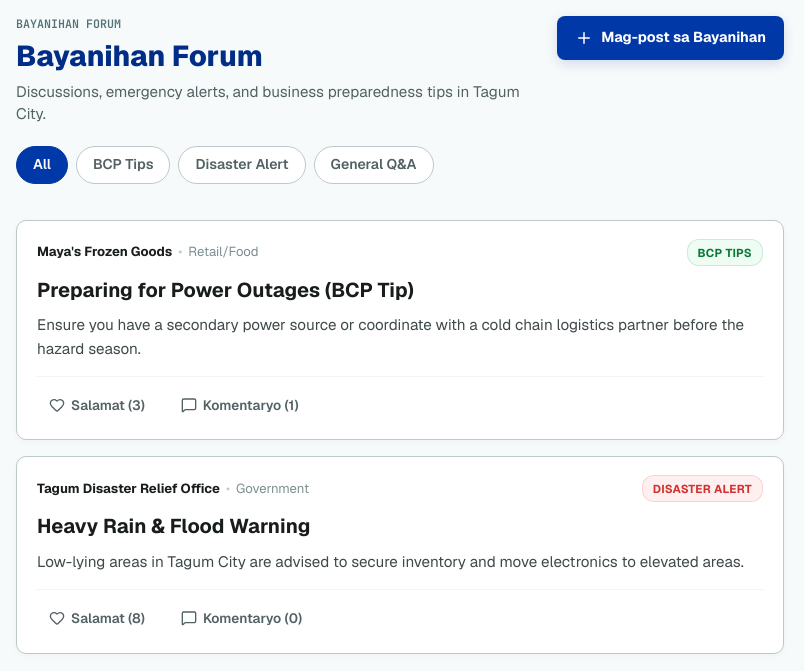
Test: Bayanihan Screen UI Tests › filters posts by topic tags correctly
Expected: the heading "Preparing for Power Outages (BCP Tip)" is shown, [37, 277, 414, 303]
Expected: the heading "Heavy Rain & Flood Warning" is shown, [37, 514, 310, 540]
Filter by "BCP Tips"
What coordinates should you click on to do the following:
click the button "BCP Tips"
I would click on:
 (123, 164)
Its box is [76, 146, 170, 184].
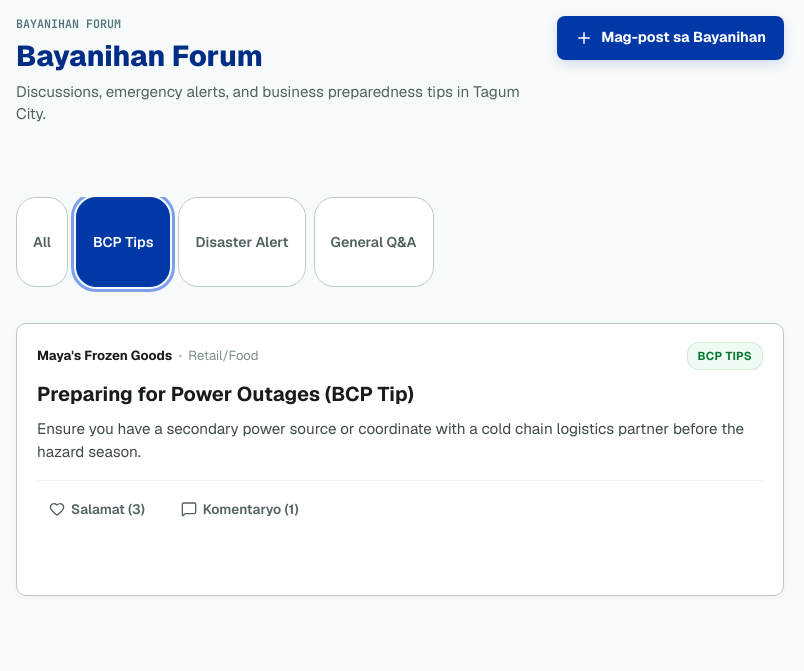
Expected: the heading "Preparing for Power Outages (BCP Tip)" is shown, [37, 381, 414, 407]
Expected: the heading "Heavy Rain & Flood Warning" is gone
Filter by "Disaster Alert"
What coordinates should you click on to do the following:
click the button "Disaster Alert"
I would click on:
 (242, 242)
Its box is [178, 198, 306, 287].
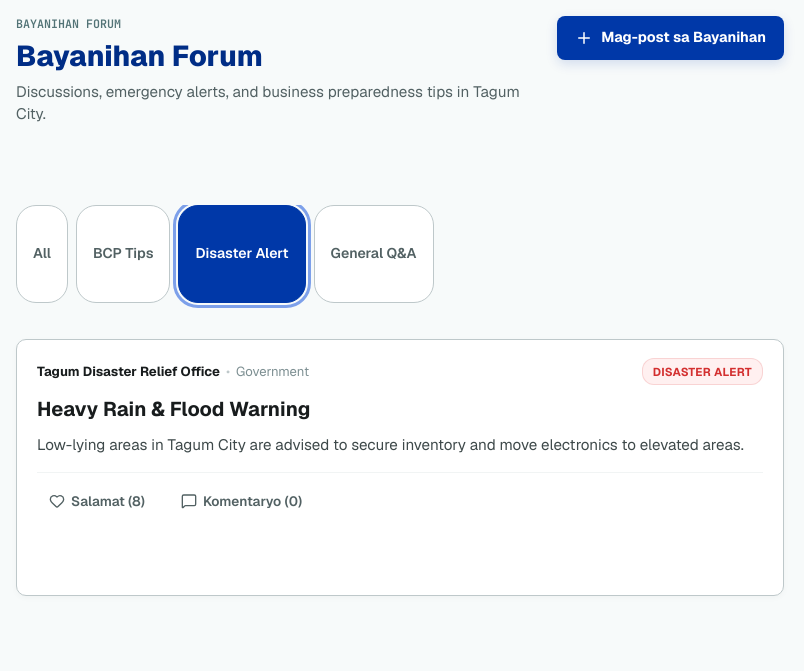
Expected: the heading "Preparing for Power Outages (BCP Tip)" is gone
Expected: the heading "Heavy Rain & Flood Warning" is shown, [37, 396, 310, 422]
Filter by "General Q&A" (which has no posts in seed data)
What coordinates should you click on to do the following:
click the button "General Q&A"
I would click on:
 (374, 254)
Its box is [314, 205, 434, 303].
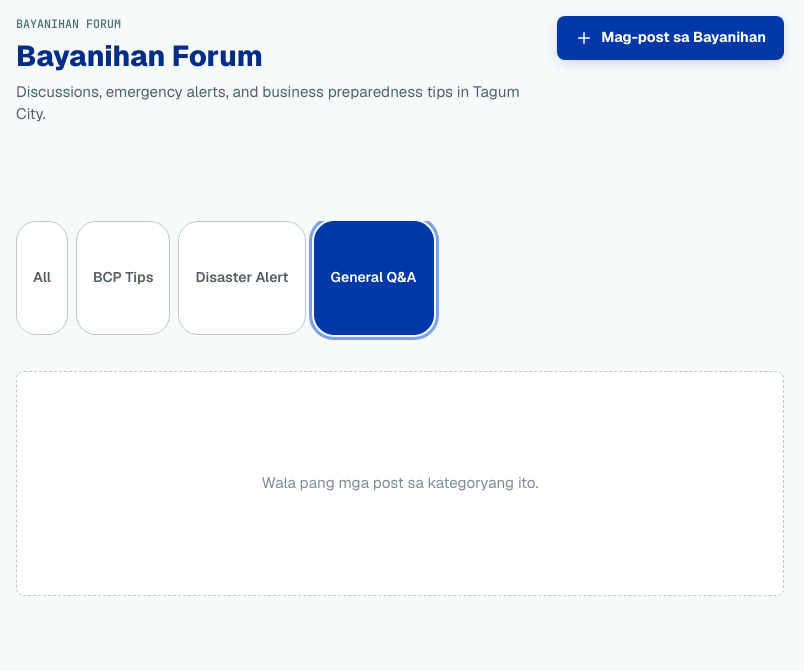
Expected: the heading "Preparing for Power Outages (BCP Tip)" is not shown
Expected: the heading "Heavy Rain & Flood Warning" is gone
Filter back to "All"
What coordinates should you click on to do the following:
click the button "All"
I would click on:
 (42, 278)
Its box is [16, 221, 68, 334].
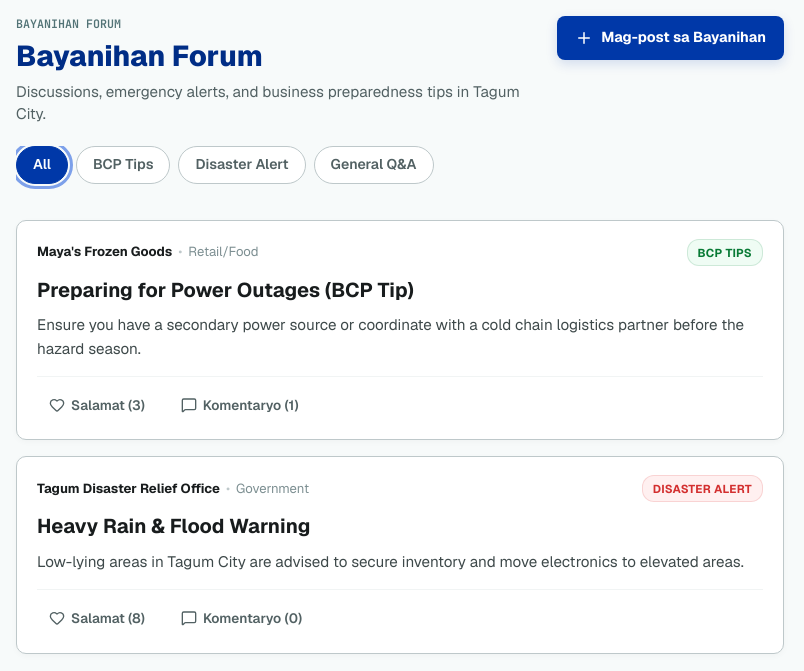
Expected: the heading "Preparing for Power Outages (BCP Tip)" is shown, [37, 277, 414, 303]
Expected: the heading "Heavy Rain & Flood Warning" is shown, [37, 514, 310, 540]
